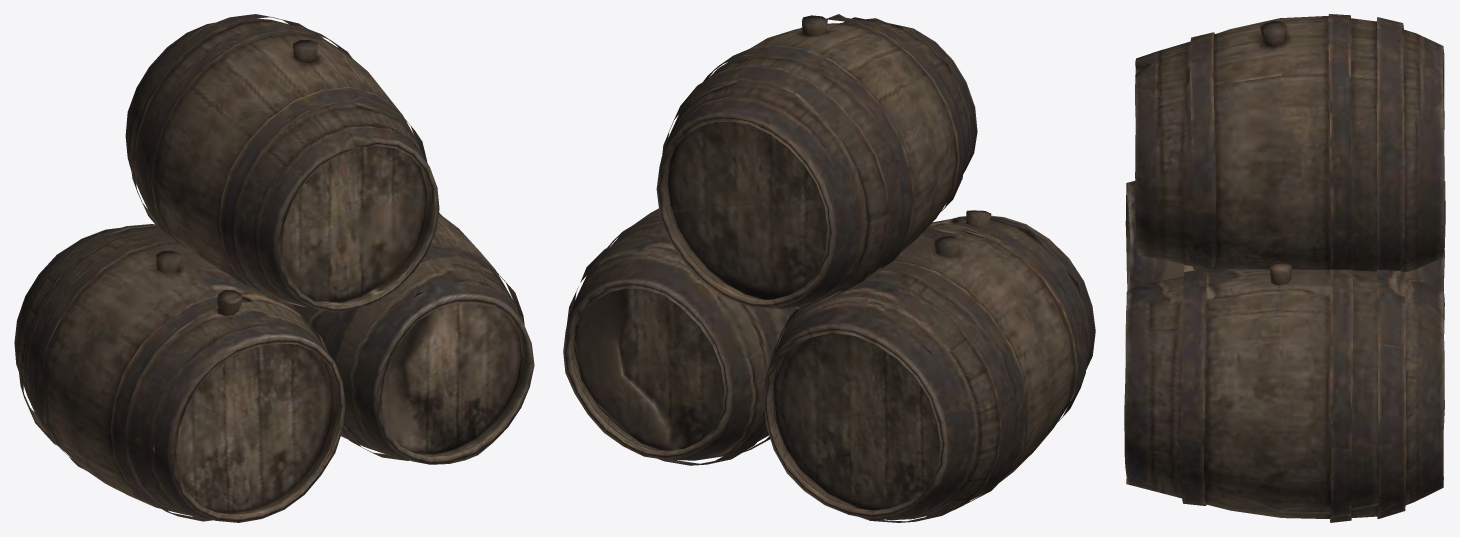
The model's file is d_barrel_small_stack.glb.
The picture shows the model from 3 angles, left to right: view 1: azimuth 30°, elevation 25°; view 2: azimuth 150°, elevation 25°; view 3: azimuth 270°, elevation 25°; orthographic projection. The views are drawn at different scales.
Visible parts, largest first — view 1: d_barrel_small_stack; view 2: d_barrel_small_stack; view 3: d_barrel_small_stack.
Boxes of the visible parts, left/top/right/bottom form: d_barrel_small_stack: left=14, top=14, right=534, bottom=522; d_barrel_small_stack: left=563, top=14, right=1095, bottom=522; d_barrel_small_stack: left=1124, top=14, right=1445, bottom=522.
Bounding box in the file's own units: 1.6 × 1.56 × 1.
Materials: 1 (1 with a texture image).
